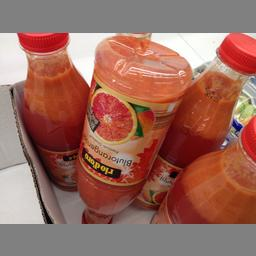juice: (74, 36, 192, 220), (138, 33, 252, 207), (15, 32, 89, 191)
